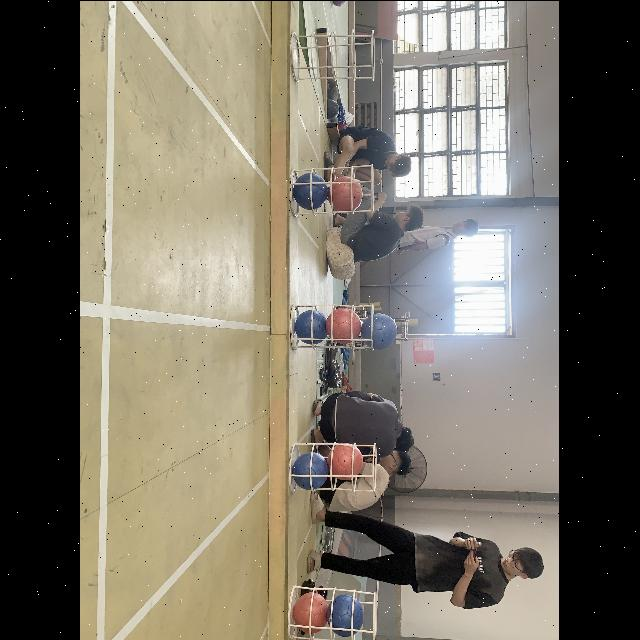B: (328, 594, 364, 636), (292, 451, 330, 489), (362, 312, 398, 348), (292, 172, 328, 208), (295, 309, 329, 343)
R: (326, 442, 364, 480), (294, 592, 328, 632), (328, 175, 364, 211), (328, 307, 362, 343)
